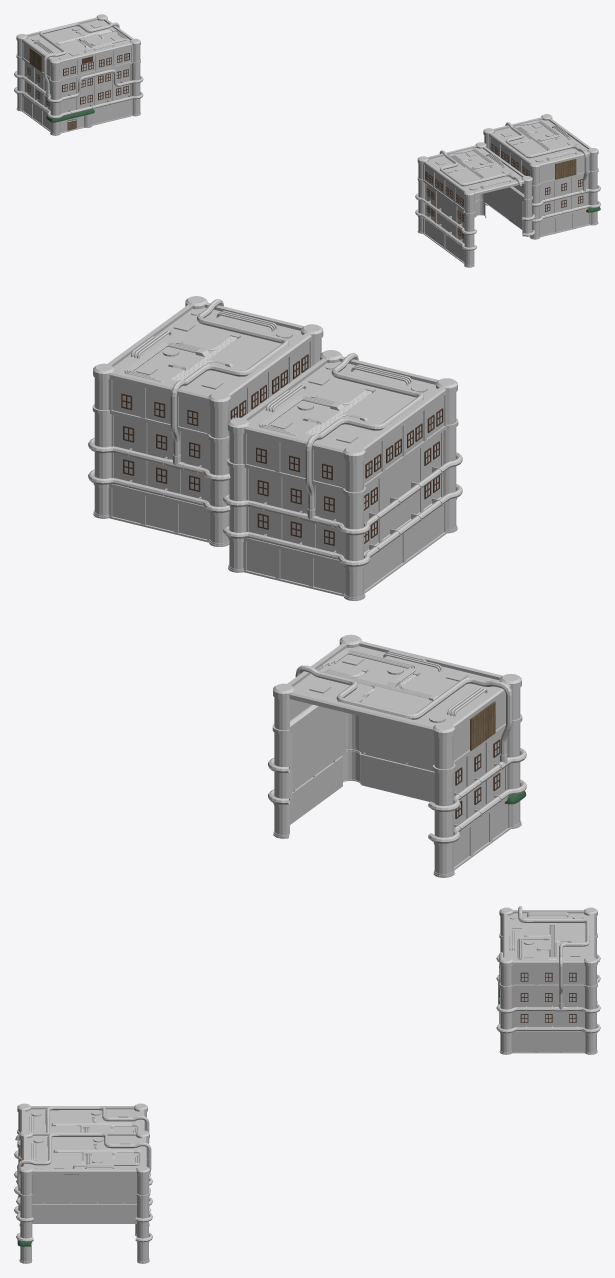
File: MERGED_SM_ENV_KNVLLG_CommonBuilding_F_2.mo.fbx
3 views of the same model, one above another, from view 1: azimuth 30°, elevation 25°; view 2: azimuth 150°, elevation 25°; view 3: azimuth 270°, elevation 25° (orthographic). The views are drawn at different scales.
Parts seen in each view (by area): view 1: MERGED_SM_ENV_KNVLLG_CommonBuilding_F_2.mo; view 2: MERGED_SM_ENV_KNVLLG_CommonBuilding_F_2.mo; view 3: MERGED_SM_ENV_KNVLLG_CommonBuilding_F_2.mo.
Part boxes in pixels (box(x1,y1,x2,y2)): MERGED_SM_ENV_KNVLLG_CommonBuilding_F_2.mo: box(14, 14, 600, 267); MERGED_SM_ENV_KNVLLG_CommonBuilding_F_2.mo: box(88, 296, 526, 877); MERGED_SM_ENV_KNVLLG_CommonBuilding_F_2.mo: box(14, 906, 600, 1263).
Size of the model in its own units: 130 by 42.03 by 145.
